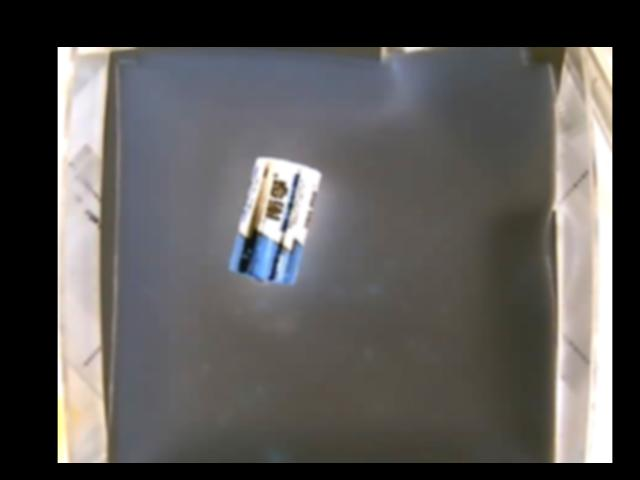Battery: (227, 157, 322, 286)
